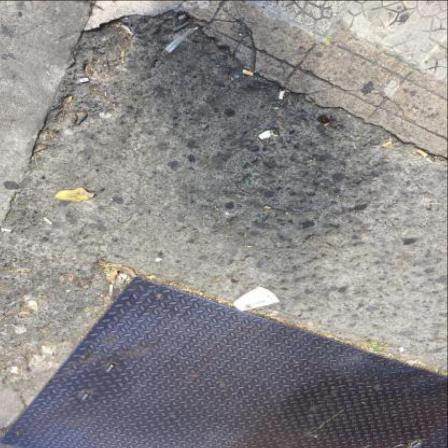Cigarette: (417, 150, 429, 158), (44, 218, 54, 226), (243, 71, 255, 77), (384, 141, 394, 147), (280, 91, 286, 100), (2, 229, 12, 233), (111, 285, 115, 293)
Cup: (236, 287, 281, 311)
Other plastic: (167, 28, 200, 54), (172, 23, 192, 34)
Unlabeled litter: (261, 131, 273, 140)
